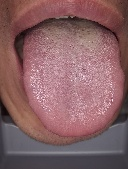tongue: (22, 31, 126, 139)
